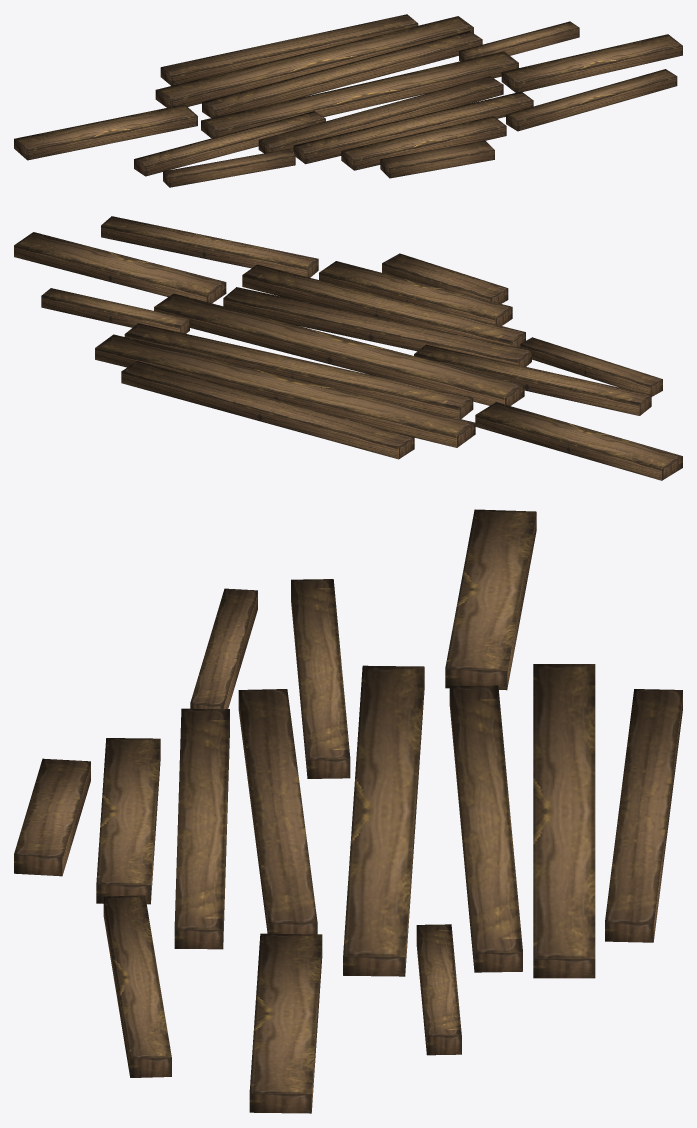
File: Plank_03.fbx
3 renders of one model, top to bottom at view 1: azimuth 30°, elevation 25°; view 2: azimuth 150°, elevation 25°; view 3: azimuth 270°, elevation 25°, orthographic. The views are drawn at different scales.
Visible parts, largest first — view 1: Plank_03; view 2: Plank_03; view 3: Plank_03.
Boxes of the visible parts, x1,y1,x2,y2 form: Plank_03: (14, 14, 682, 187); Plank_03: (14, 216, 682, 480); Plank_03: (14, 509, 682, 1113).
Bounding box in the file's own units: 2.45 × 0.0415 × 1.18.
